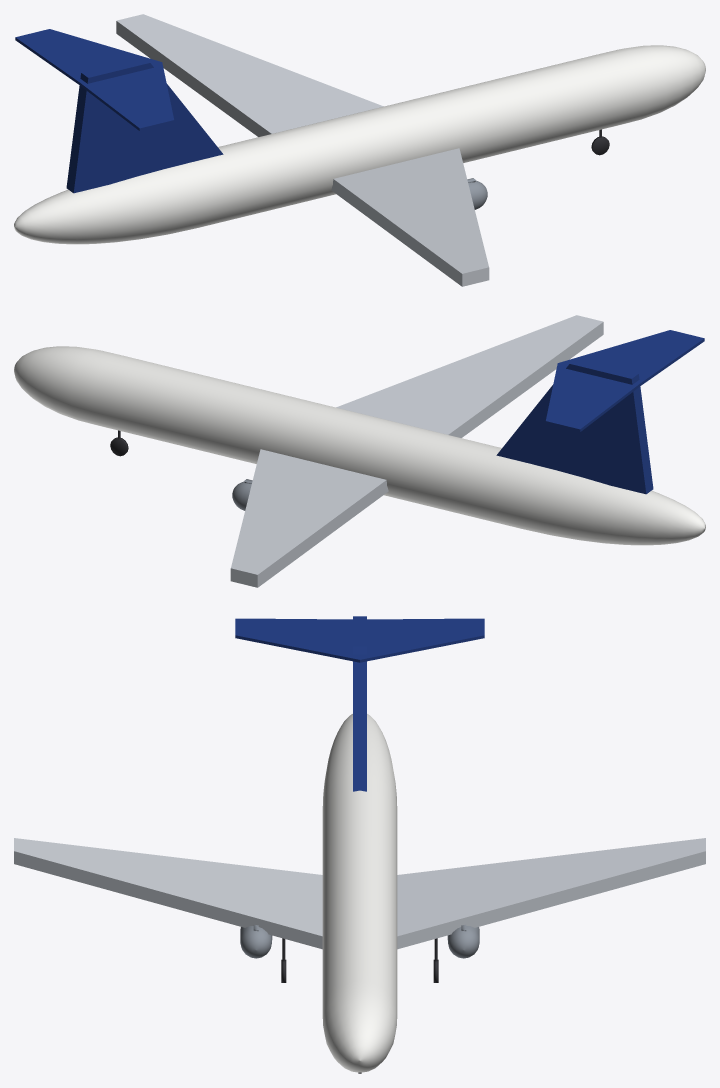
3 views of the same model, one above another, from view 1: azimuth 30°, elevation 25°; view 2: azimuth 150°, elevation 25°; view 3: azimuth 270°, elevation 25° (orthographic).
Parts seen in each view (by area): view 1: fuselage, wings, tail; view 2: fuselage, wings, tail; view 3: wings, fuselage, tail, engines.
Part boxes in pixels (x1,y1,x2,y2): fuselage: [14, 45, 705, 244]; wings: [116, 14, 489, 286]; tail: [15, 29, 223, 193]; fuselage: [14, 346, 705, 545]; wings: [230, 315, 603, 587]; tail: [496, 330, 704, 494]; wings: [14, 838, 705, 949]; fuselage: [322, 714, 397, 1072]; tail: [235, 616, 484, 791]; engines: [240, 924, 479, 958].
Bounding box in the file's own units: 29.9 × 8.49 × 26.
